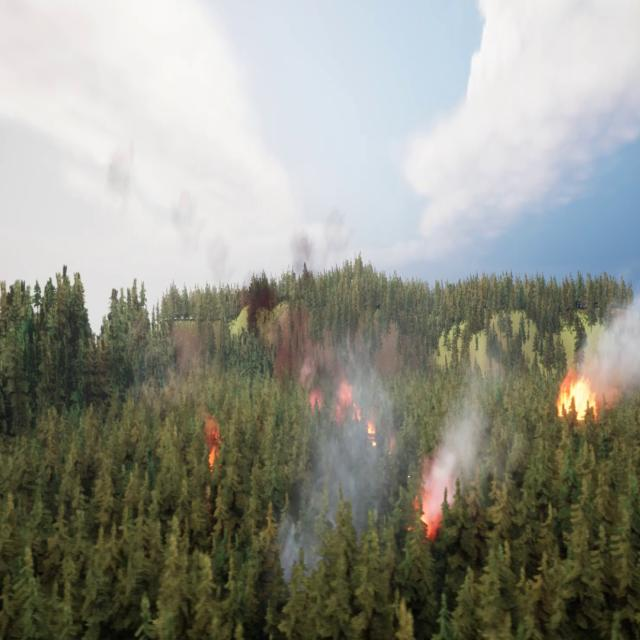fire: (311, 375, 386, 447), (408, 488, 447, 544), (557, 375, 599, 426), (202, 404, 221, 474)
smoke: (244, 209, 397, 576), (423, 373, 492, 515), (581, 296, 640, 399)
